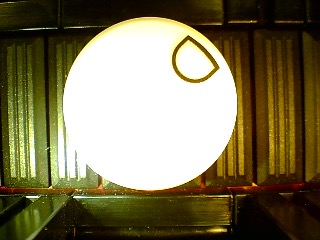MIPO1: (62, 16, 238, 190)
